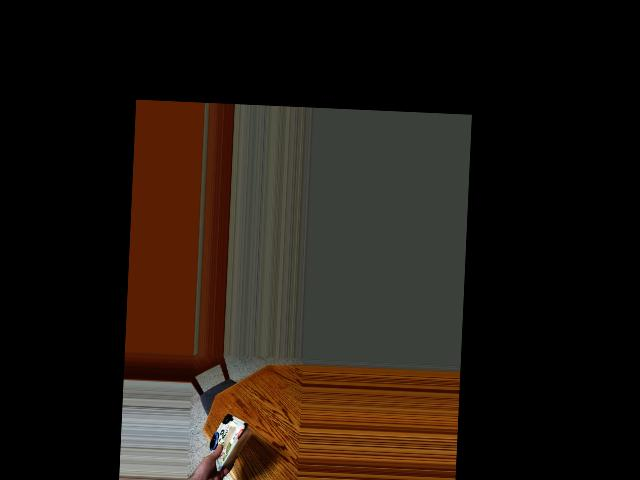cheese: (201, 415, 257, 463)
